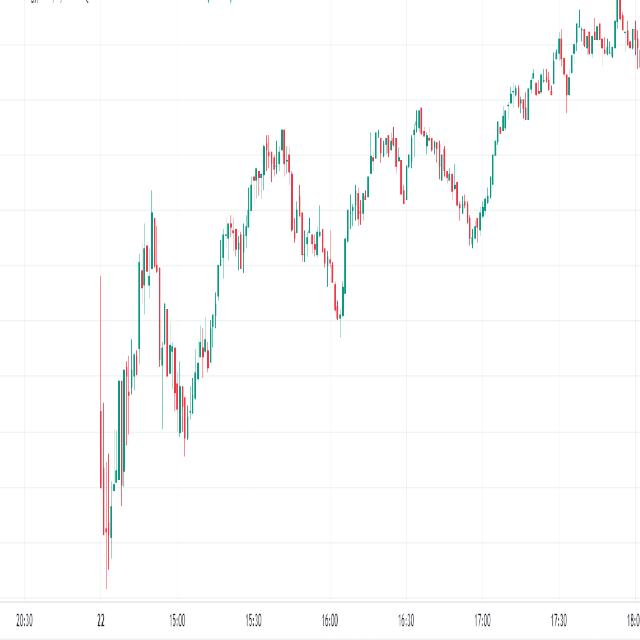Double-Top: (345, 86, 473, 292)
Head-Shoulders: (202, 112, 343, 347)
